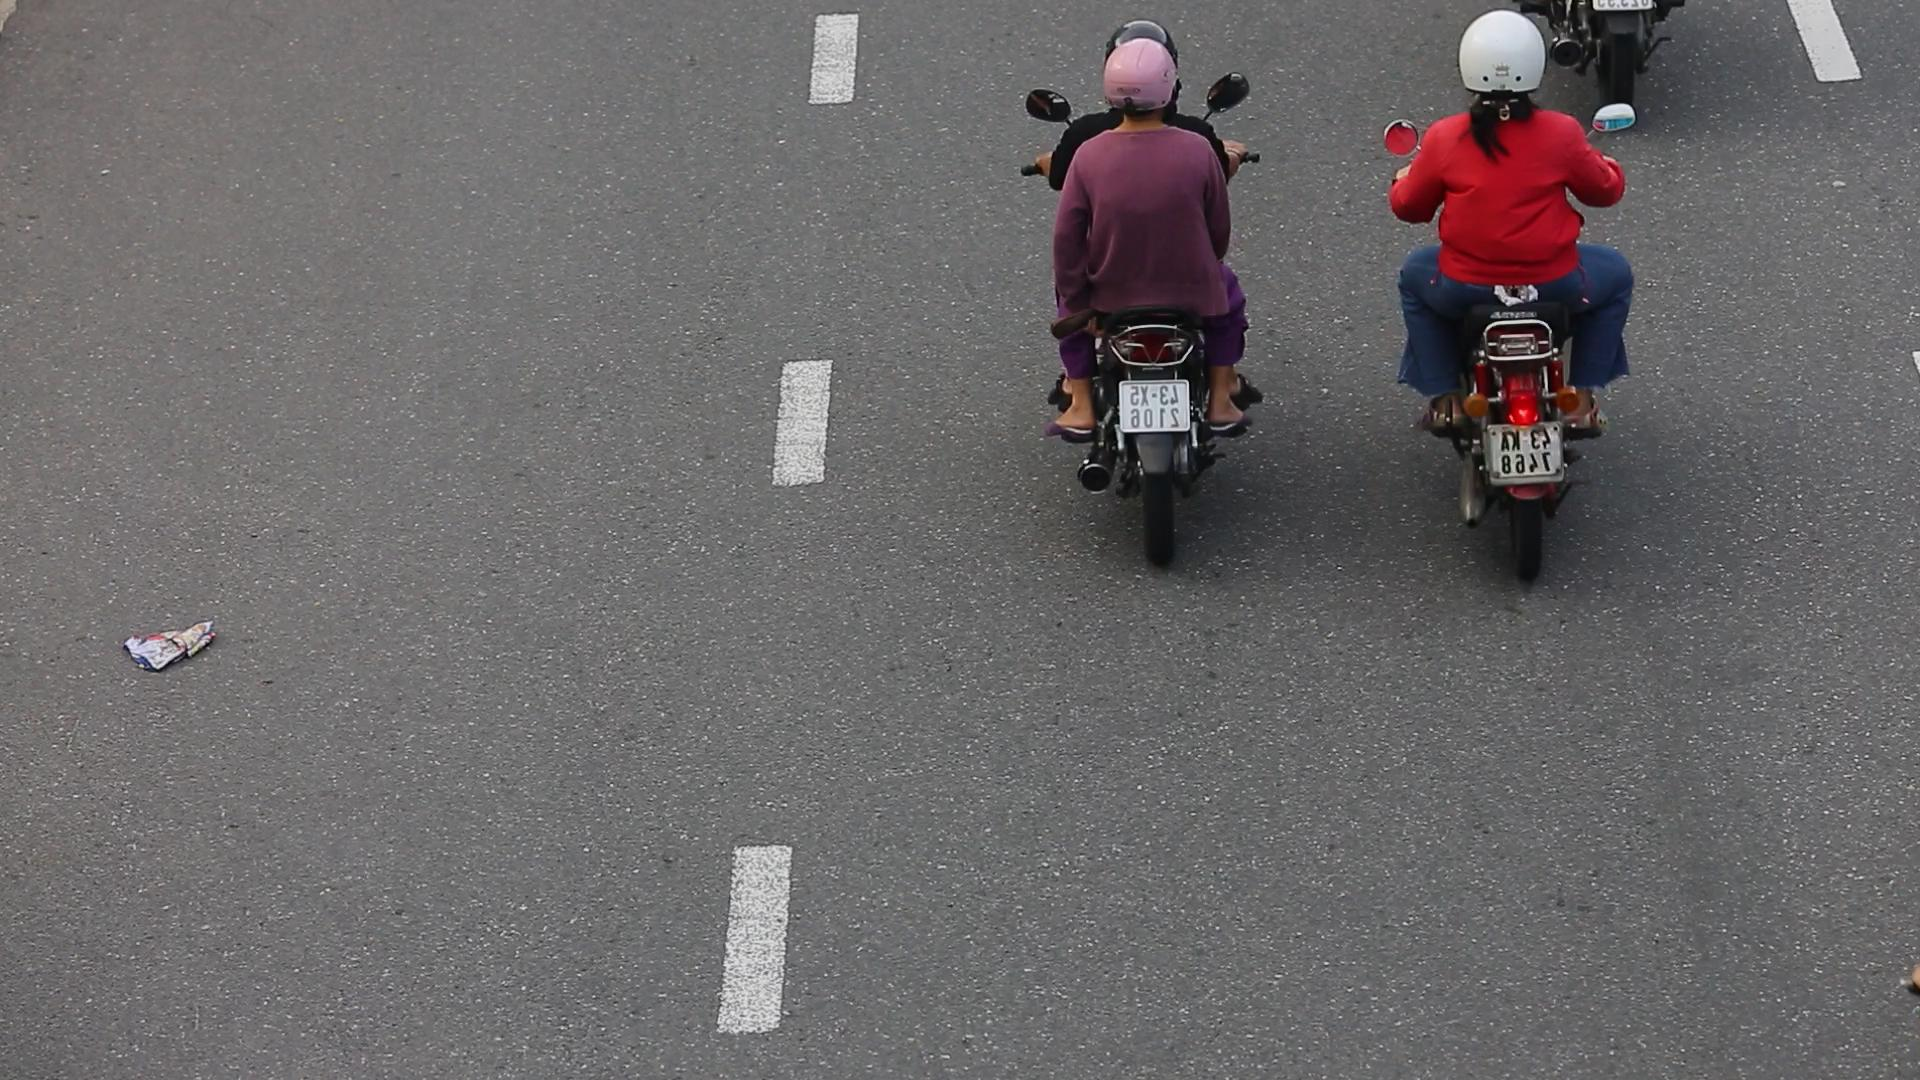motobike: (1353, 0, 1668, 592), (1002, 8, 1266, 578)
